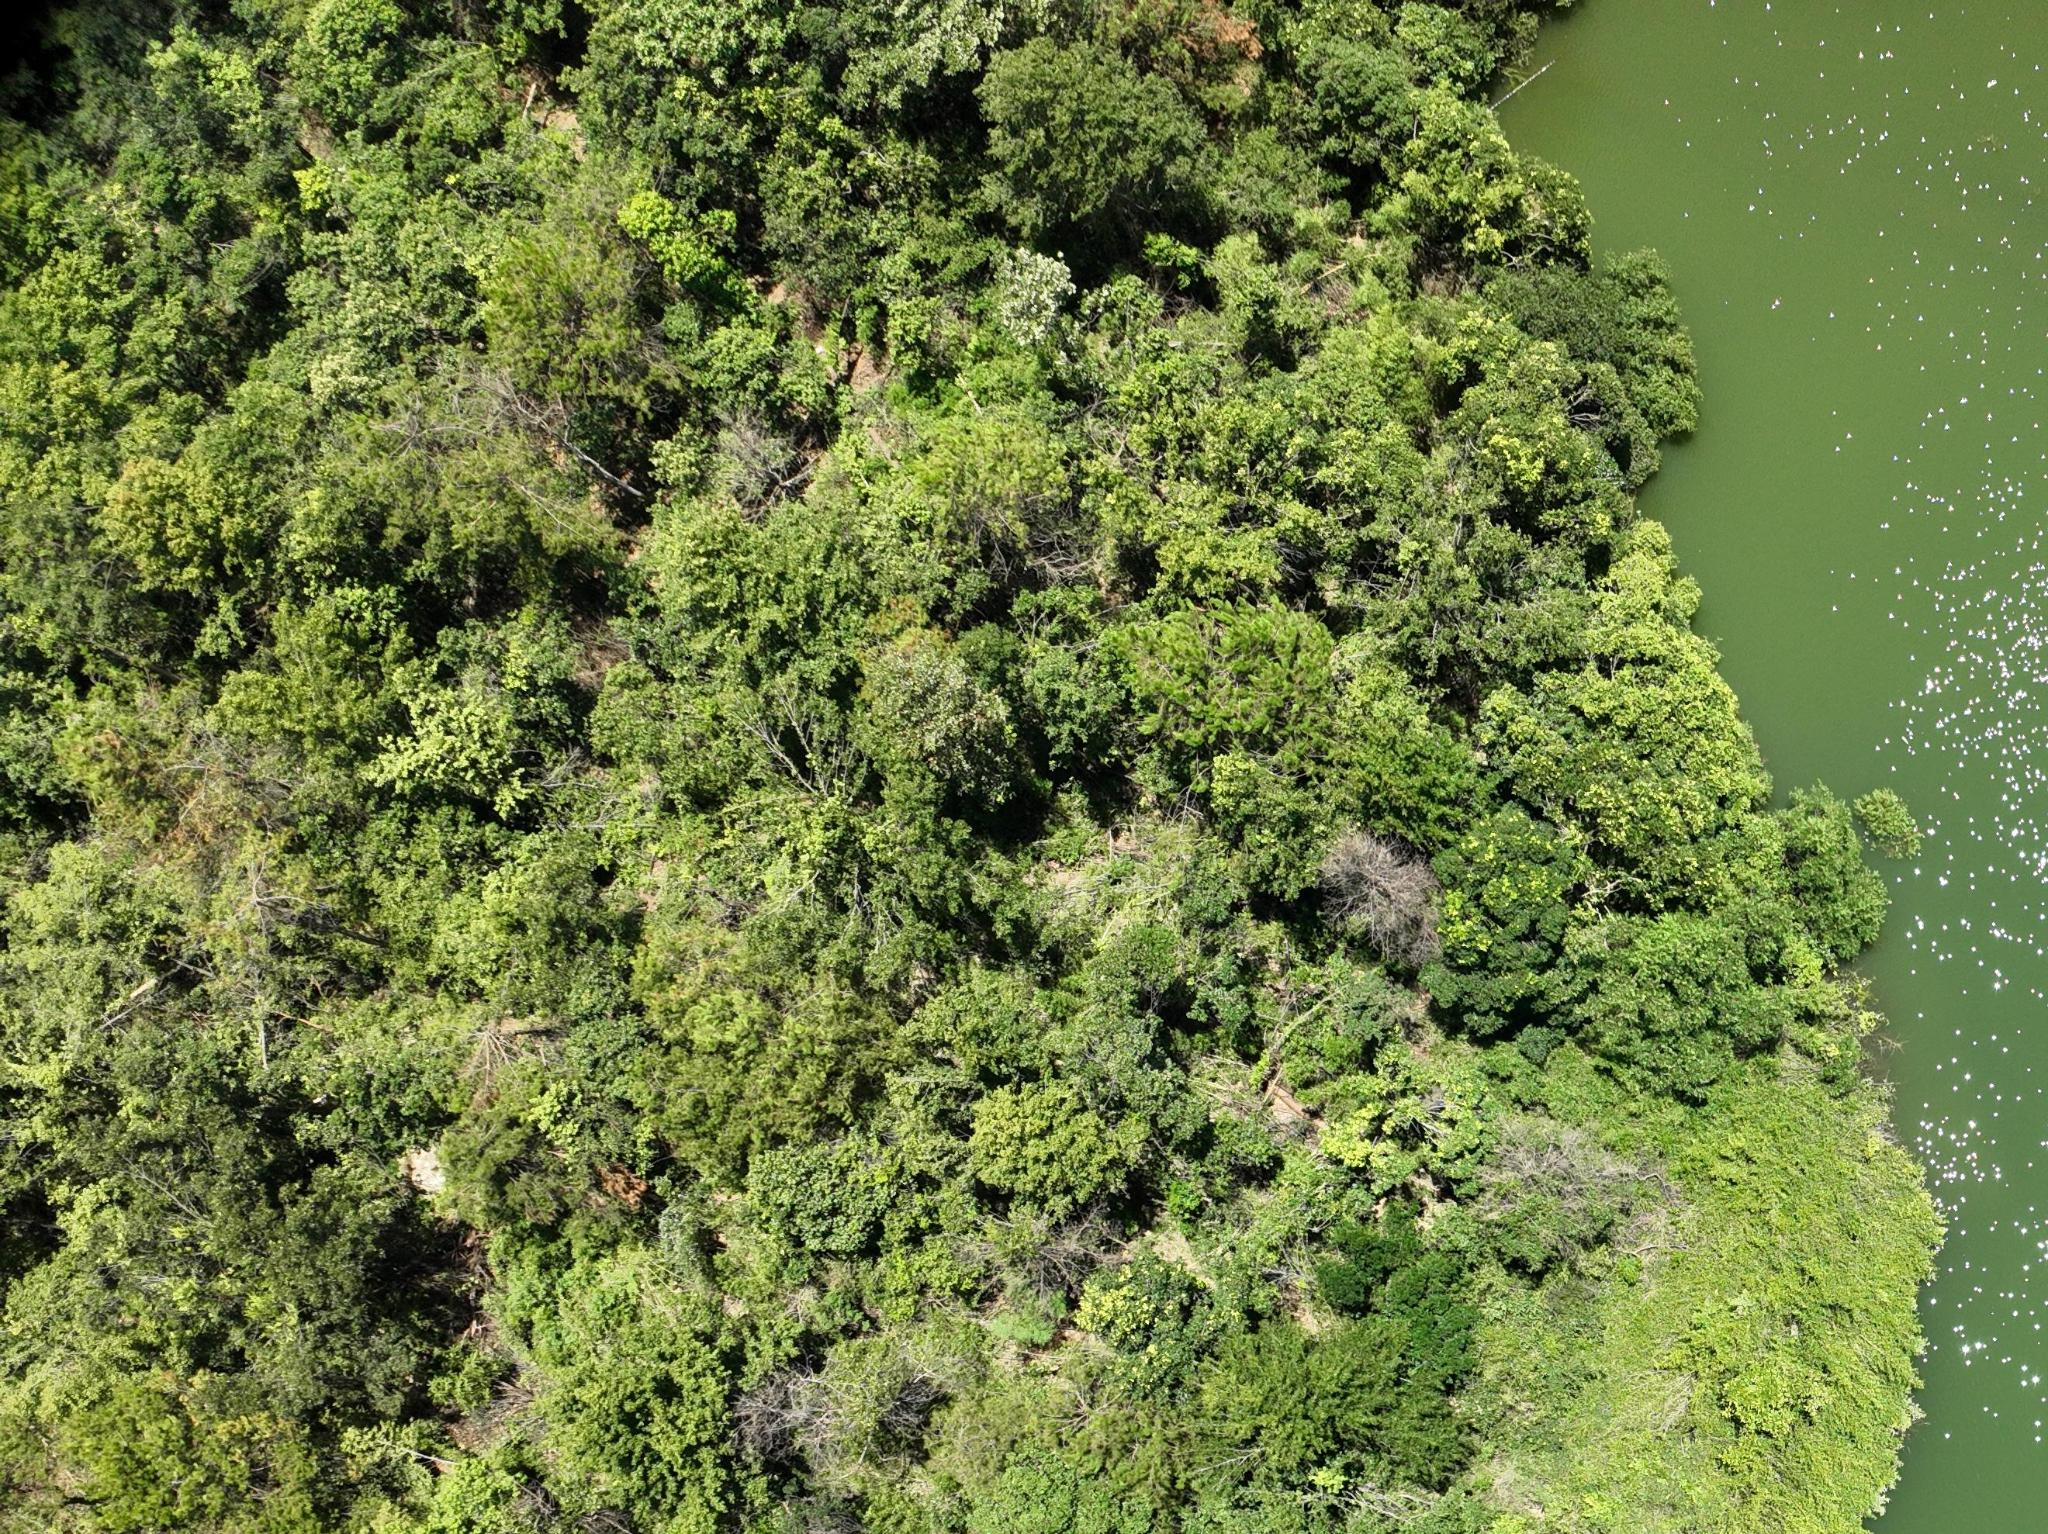dead: (1325, 833, 1434, 956)
